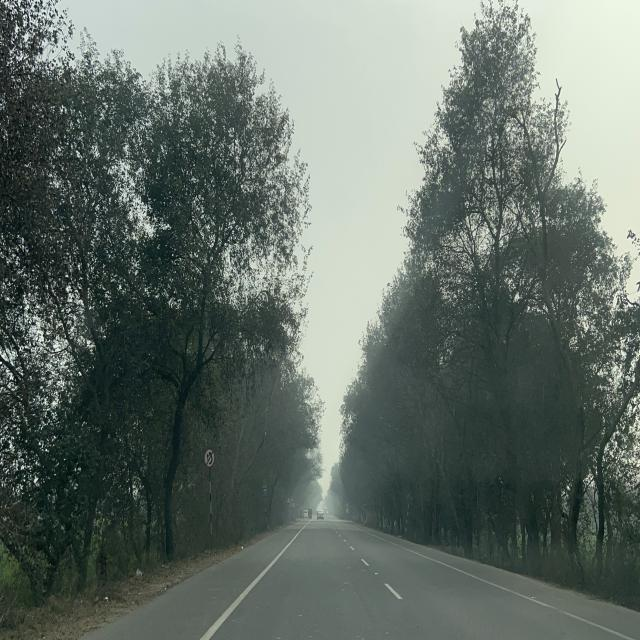OVERTAKING_PROHIBITED: (203, 448, 216, 468)
